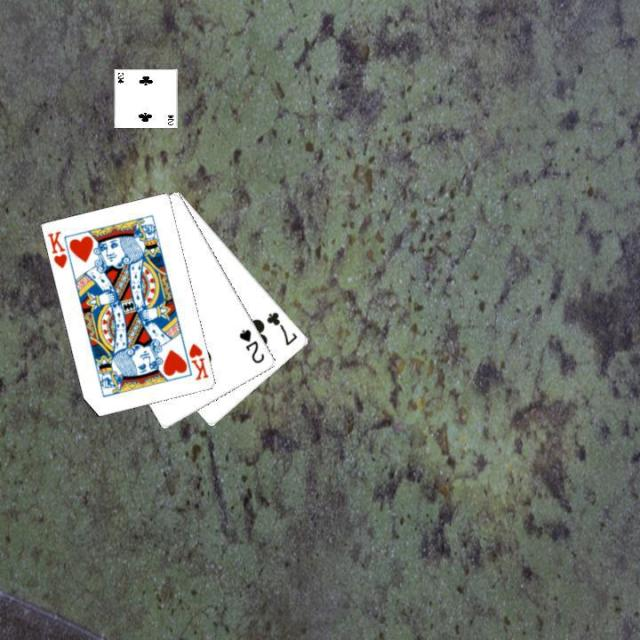2S: (236, 326, 266, 366)
7C: (263, 308, 300, 348)
KH: (185, 340, 211, 382), (44, 228, 70, 270)
